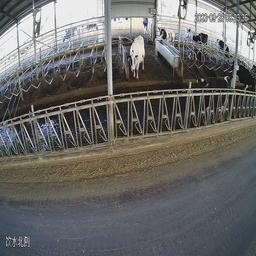cow: (201, 71, 232, 119), (129, 32, 148, 82), (234, 56, 255, 97), (184, 22, 200, 59), (157, 21, 177, 48), (215, 36, 231, 64), (198, 29, 208, 52)
